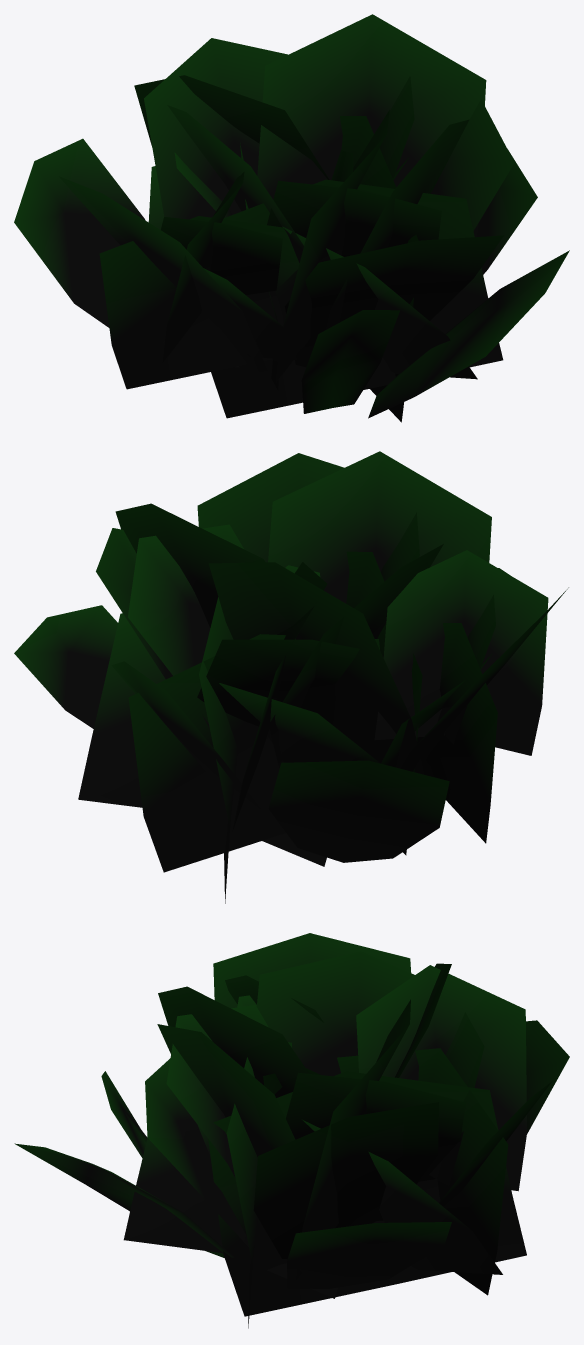
The model's file is SimpleGrassClumpRHEP_B.fbx.
3 views of the same model, one above another, from view 1: azimuth 30°, elevation 25°; view 2: azimuth 150°, elevation 25°; view 3: azimuth 270°, elevation 25° (orthographic). The views are drawn at different scales.
Parts seen in each view (by area): view 1: SGCRHEP-B_LOD0; view 2: SGCRHEP-B_LOD0; view 3: SGCRHEP-B_LOD0.
Part boxes in pixels (box(x1,y1,x2,y2)): SGCRHEP-B_LOD0: box(14, 14, 569, 422); SGCRHEP-B_LOD0: box(14, 451, 568, 903); SGCRHEP-B_LOD0: box(14, 933, 569, 1328).
Size of what is drawn, in the model's own units: 2.14 by 1.55 by 2.44.
